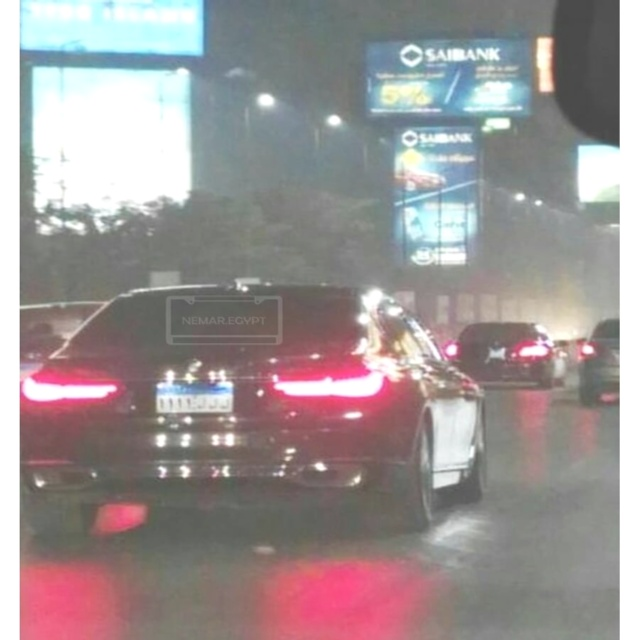License Plate: (151, 378, 238, 417)
